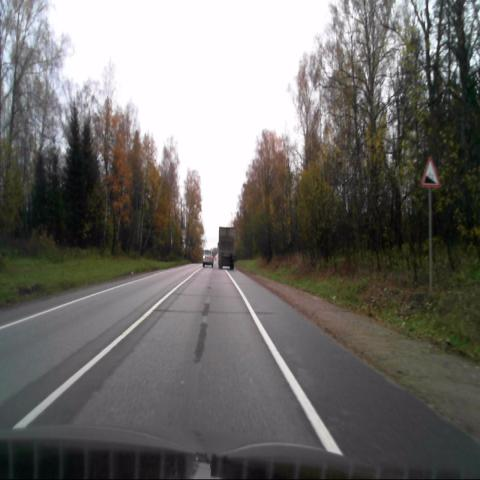1_13: (421, 156, 440, 187)
